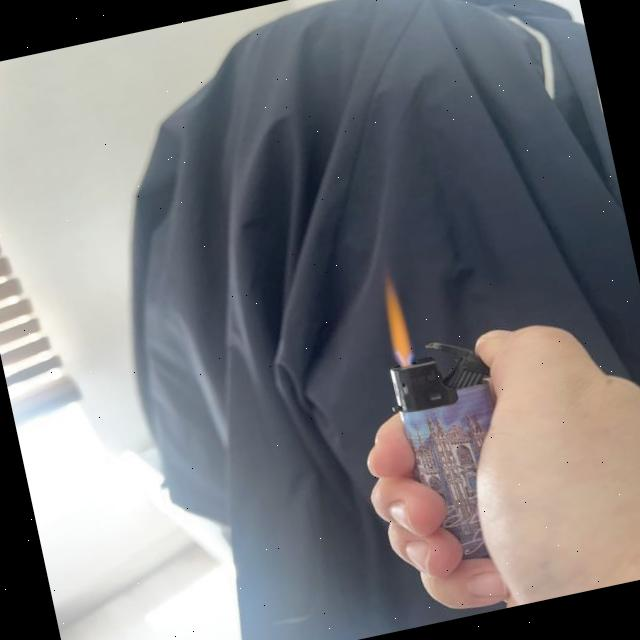fire: (374, 277, 416, 363)
